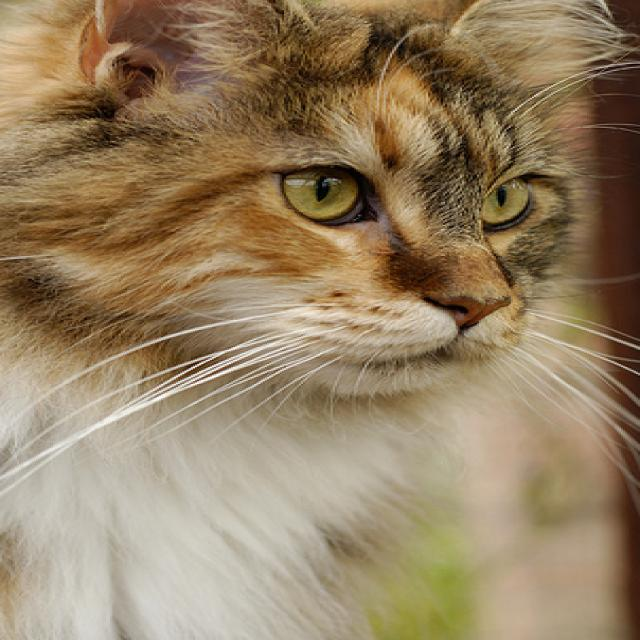Maine Coon: (0, 0, 634, 640)
